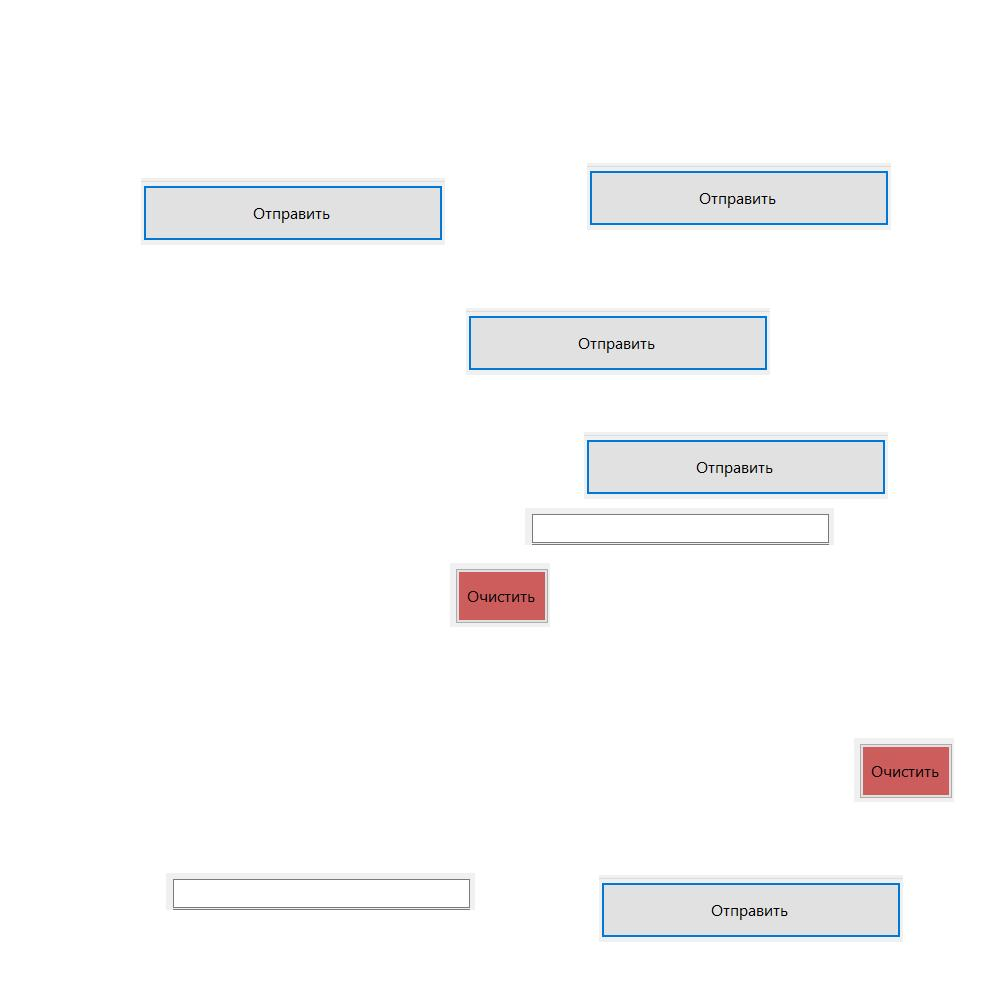Button: (141, 178, 445, 245), (584, 432, 888, 499), (587, 163, 891, 230), (466, 308, 770, 375), (599, 875, 903, 942), (854, 738, 954, 802), (450, 563, 550, 627)
EditText-: (525, 508, 834, 545), (166, 873, 475, 910)
